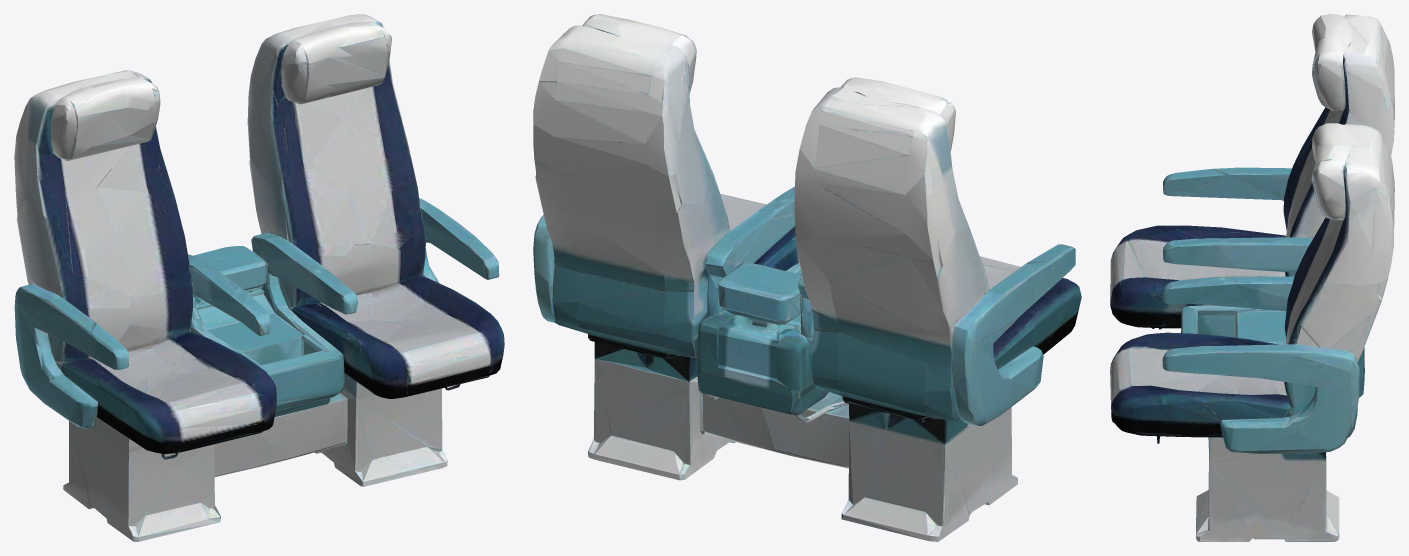
The model's file is train_double_seat.glb.
The picture shows the model from 3 angles, left to right: view 1: azimuth 30°, elevation 25°; view 2: azimuth 150°, elevation 25°; view 3: azimuth 270°, elevation 25°; orthographic projection. The views are drawn at different scales.
Size of the model in its own units: 1.9 by 1.83 by 1.23.
1 material, 1 textured.
